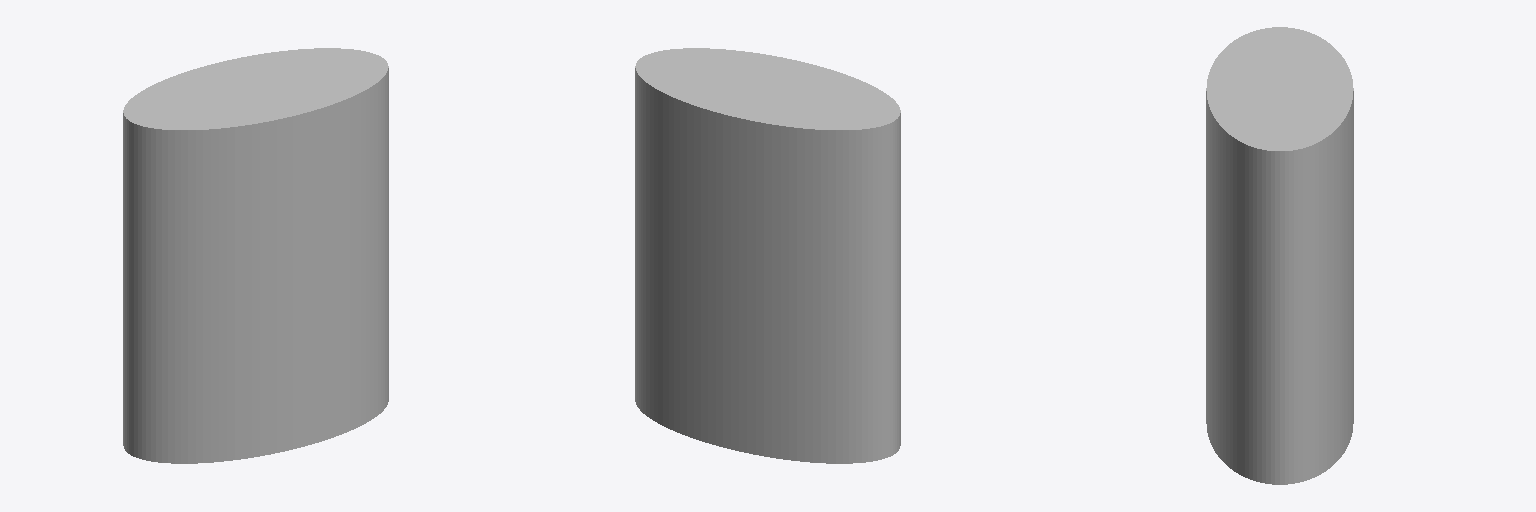
The model's file is torso.obj.
3 views of the same model, side by side, from view 1: azimuth 30°, elevation 25°; view 2: azimuth 150°, elevation 25°; view 3: azimuth 270°, elevation 25° (orthographic).
Parts seen in each view (by area): view 1: Cylinder_Cylinder.004; view 2: Cylinder_Cylinder.004; view 3: Cylinder_Cylinder.004.
Boxes of the visible parts, x1,y1,x2,y2 form: Cylinder_Cylinder.004: [123, 48, 388, 463]; Cylinder_Cylinder.004: [635, 48, 900, 463]; Cylinder_Cylinder.004: [1206, 27, 1353, 484].
Size of the model in its own units: 4 by 5 by 2.